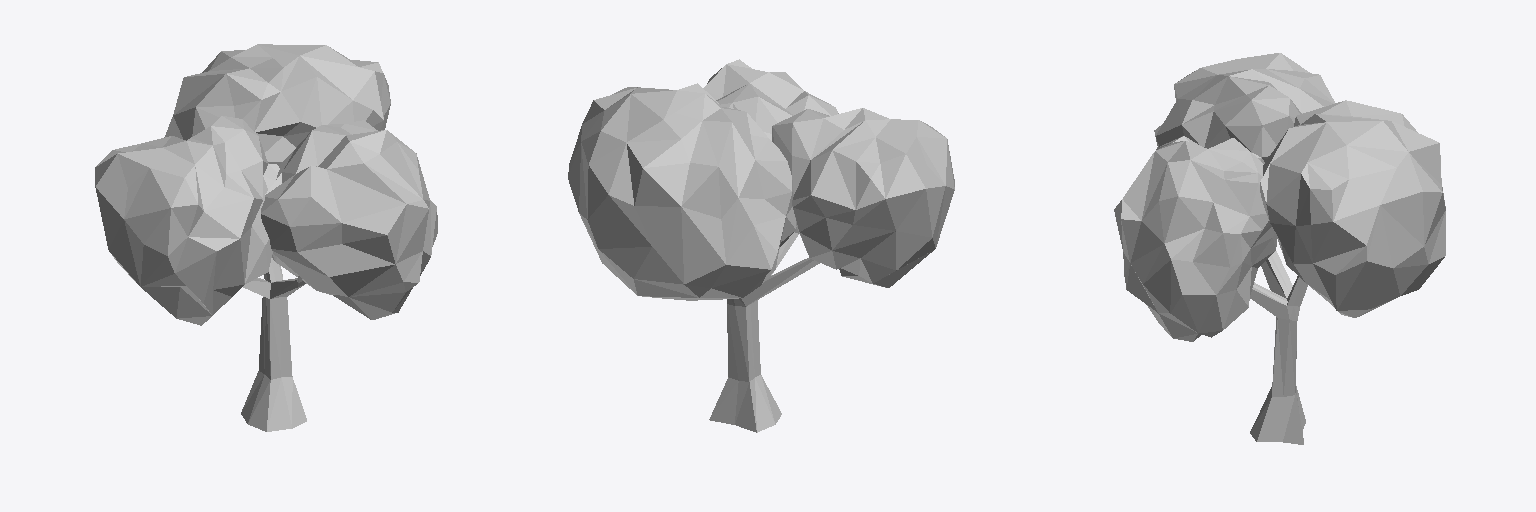
File: Tree1.obj
3 views of the same model, side by side, from view 1: azimuth 30°, elevation 25°; view 2: azimuth 150°, elevation 25°; view 3: azimuth 270°, elevation 25° (orthographic).
Parts seen in each view (by area): view 1: Tree_average_lush_Cube.001; view 2: Tree_average_lush_Cube.001; view 3: Tree_average_lush_Cube.001.
Boxes of the visible parts, <box> form: Tree_average_lush_Cube.001: <box>95,44,437,431</box>; Tree_average_lush_Cube.001: <box>568,59,954,432</box>; Tree_average_lush_Cube.001: <box>1114,53,1445,444</box>.
Bounding box in the file's own units: 14.67 × 14.66 × 13.24.